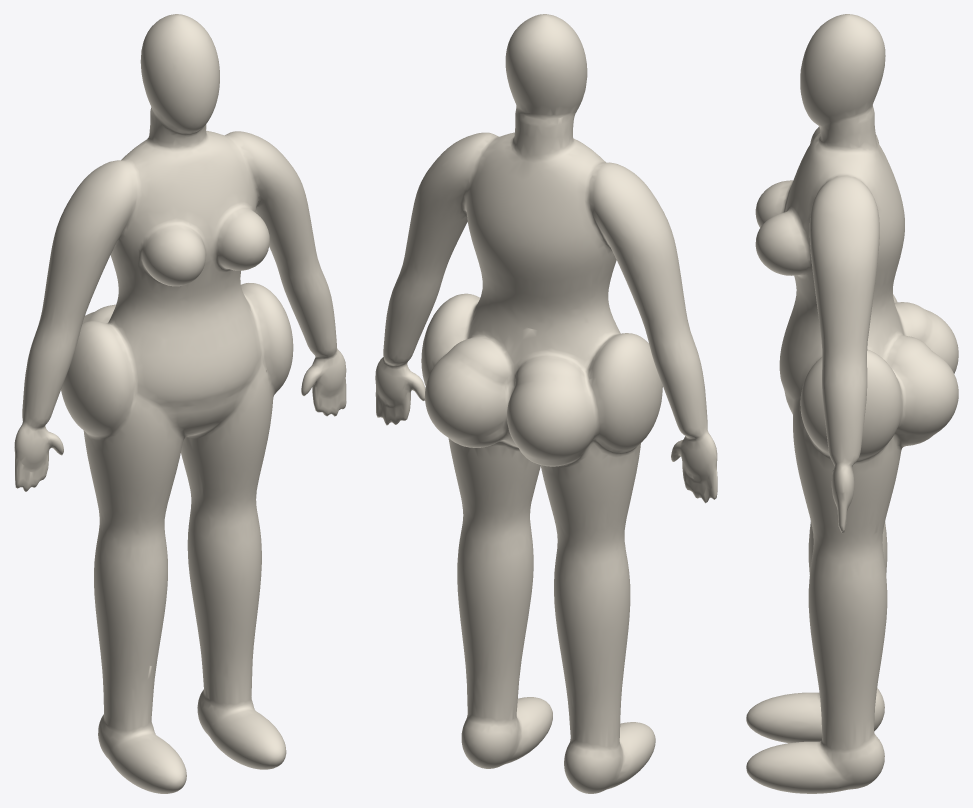
Rendered from seren_avatar.glb.
3 views of the same model, side by side, from view 1: azimuth 30°, elevation 25°; view 2: azimuth 150°, elevation 25°; view 3: azimuth 270°, elevation 25° (orthographic). The views are drawn at different scales.
Visible parts, largest first — view 1: Woobi_Female_Mannequin_Body; view 2: Woobi_Female_Mannequin_Body; view 3: Woobi_Female_Mannequin_Body.
Part boxes in pixels (box(x1,y1,x2,y2)): Woobi_Female_Mannequin_Body: box(14, 14, 346, 793); Woobi_Female_Mannequin_Body: box(375, 14, 717, 793); Woobi_Female_Mannequin_Body: box(746, 14, 958, 793).
Bounding box in the file's own units: 0.7921 × 1.7 × 0.4362.
